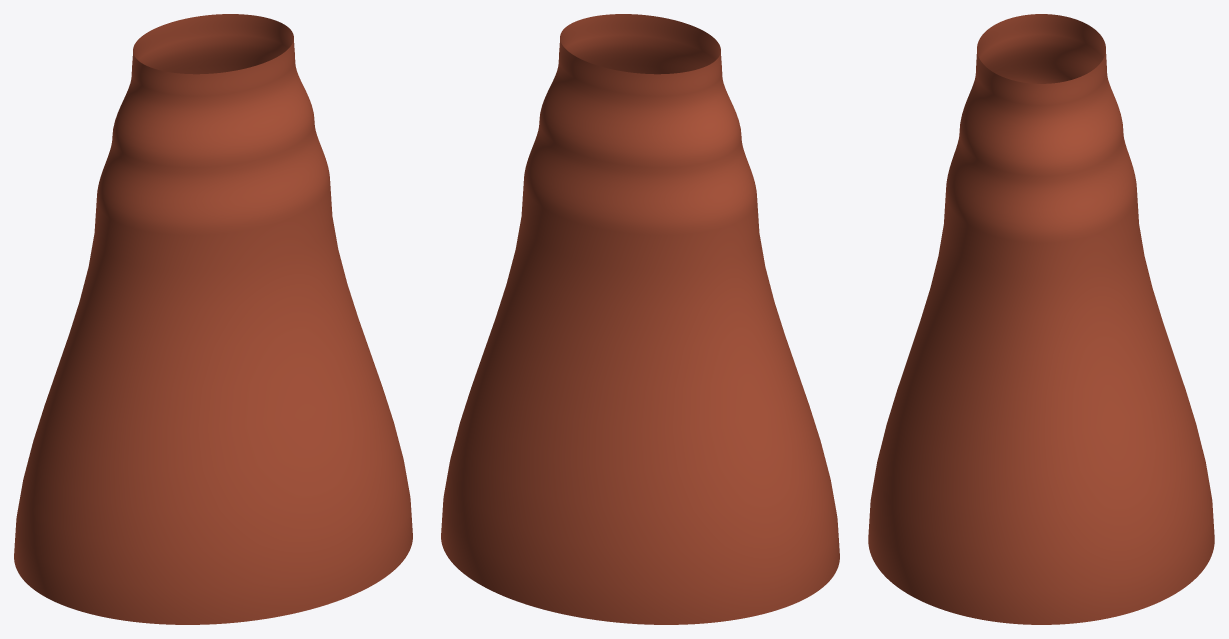
The model's file is demo-a-line-skirt--terracotta--xs.r2.glb.
3 views of the same model, side by side, from view 1: azimuth 30°, elevation 25°; view 2: azimuth 150°, elevation 25°; view 3: azimuth 270°, elevation 25° (orthographic). The views are drawn at different scales.
Visible parts, largest first — view 1: demo-a-line-skirt--terracotta--xs; view 2: demo-a-line-skirt--terracotta--xs; view 3: demo-a-line-skirt--terracotta--xs.
Boxes of the visible parts, x1,y1,x2,y2 form: demo-a-line-skirt--terracotta--xs: (14, 14, 412, 624); demo-a-line-skirt--terracotta--xs: (441, 14, 839, 624); demo-a-line-skirt--terracotta--xs: (868, 14, 1214, 624).
Bounding box in the file's own units: 0.5469 × 0.735 × 0.4703.
